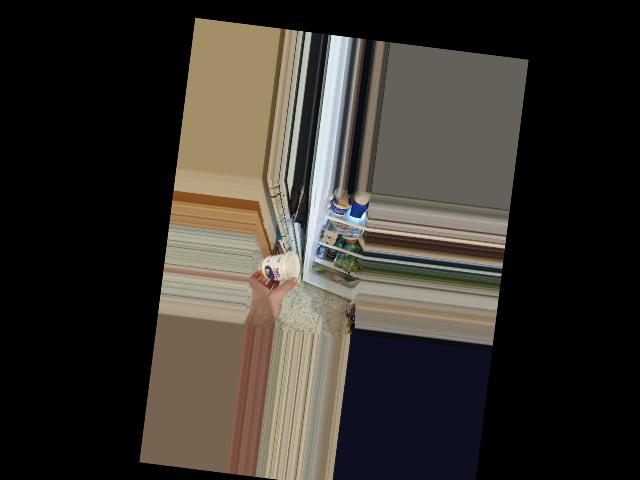cotage: (258, 248, 300, 286)
